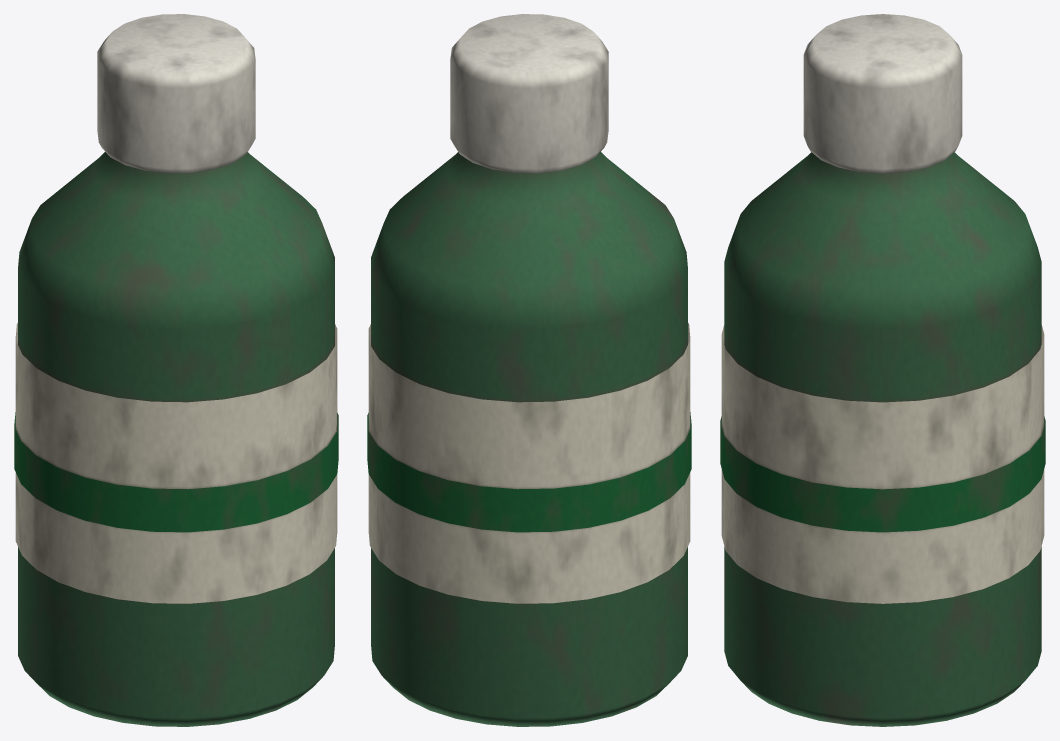
The model's file is nawoz.glb.
3 views of the same model, side by side, from view 1: azimuth 30°, elevation 25°; view 2: azimuth 150°, elevation 25°; view 3: azimuth 270°, elevation 25° (orthographic).
Visible parts, largest first — view 1: Nawoz; view 2: Nawoz; view 3: Nawoz.
Boxes of the visible parts, x1,y1,x2,y2 form: Nawoz: (14, 14, 338, 726); Nawoz: (367, 14, 691, 726); Nawoz: (720, 14, 1045, 726).
Bounding box in the file's own units: 0.1024 × 0.216 × 0.1024.
Materials: 1 (1 with a texture image).
